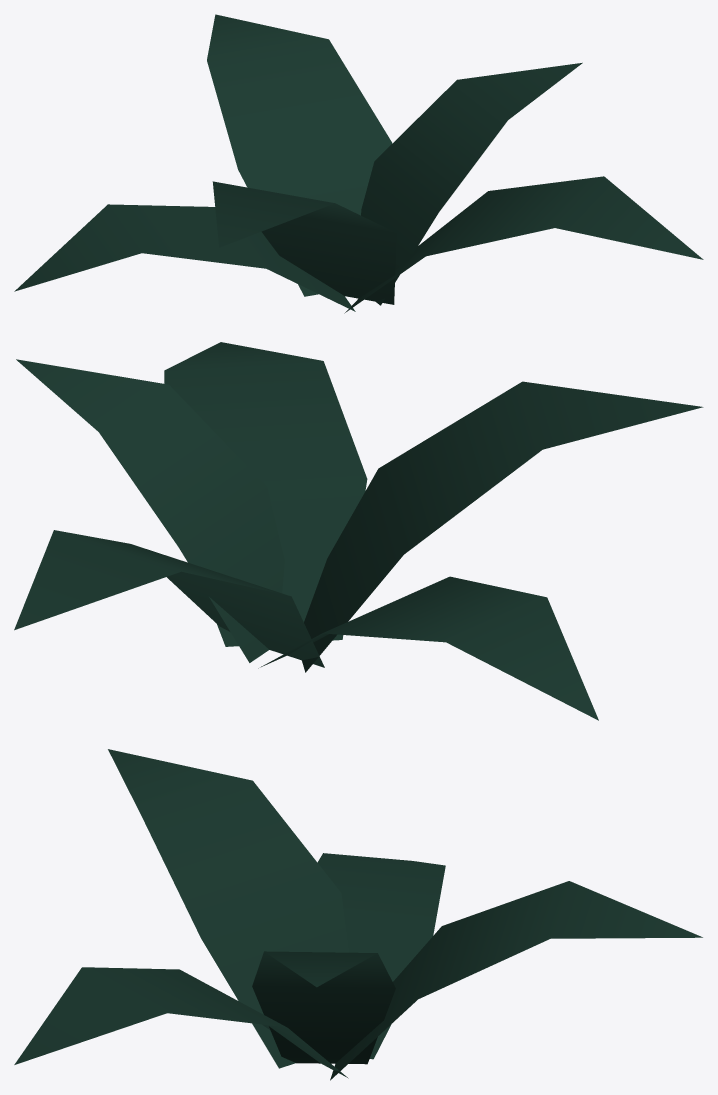
File: fern_lod2.glb
The picture shows the model from 3 angles, top to bottom: view 1: azimuth 30°, elevation 25°; view 2: azimuth 150°, elevation 25°; view 3: azimuth 270°, elevation 25°; orthographic projection. The views are drawn at different scales.
Parts seen in each view (by area): view 1: fern_lod2; view 2: fern_lod2; view 3: fern_lod2.
Part boxes in pixels (x1=…): fern_lod2: x1=14, y1=14, x2=703, y2=313; fern_lod2: x1=14, y1=342, x2=703, y2=720; fern_lod2: x1=14, y1=749, x2=702, y2=1080.
Bounding box in the file's own units: 1.8 × 0.5913 × 1.96.
